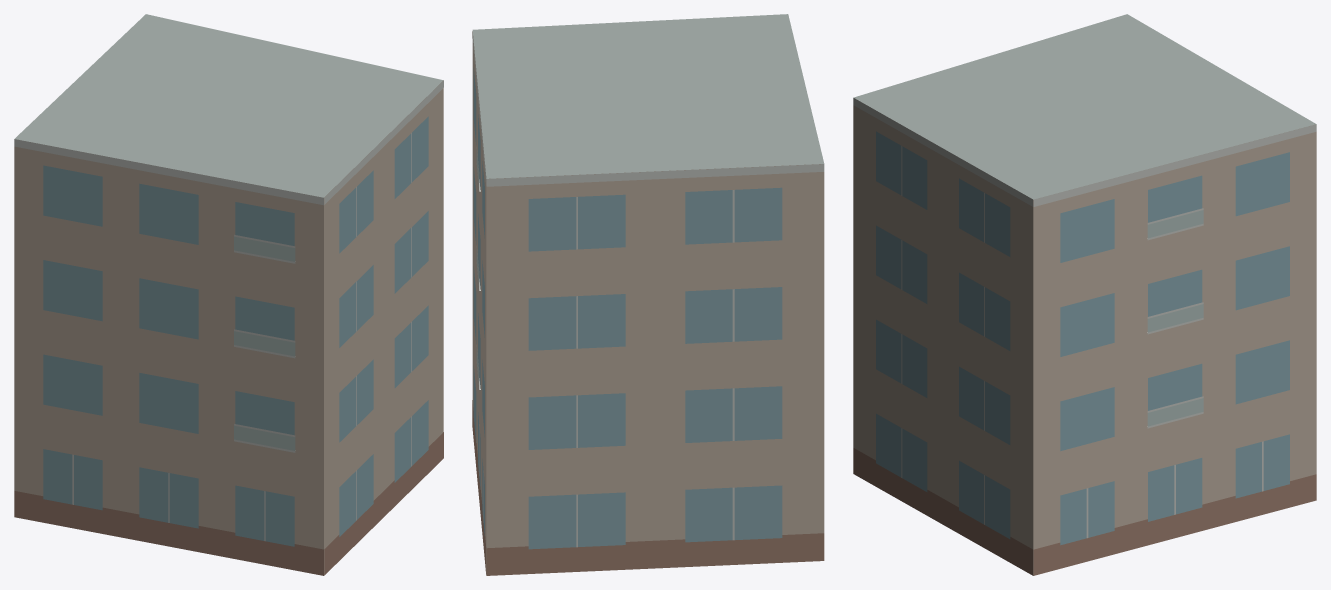
File: survey-upis-32668420.glb
3 renders of one model, left to right at view 1: azimuth 30°, elevation 25°; view 2: azimuth 150°, elevation 25°; view 3: azimuth 270°, elevation 25°, orthographic. The views are drawn at different scales.
Parts seen in each view (by area): view 1: survey-upis-32668420.tmp; view 2: survey-upis-32668420.tmp; view 3: survey-upis-32668420.tmp.
Part boxes in pixels (<box>): survey-upis-32668420.tmp: <box>14,14,443,575</box>; survey-upis-32668420.tmp: <box>472,14,824,575</box>; survey-upis-32668420.tmp: <box>853,14,1316,575</box>.
Size of the model in its own units: 12.92 by 12.2 by 13.62.
